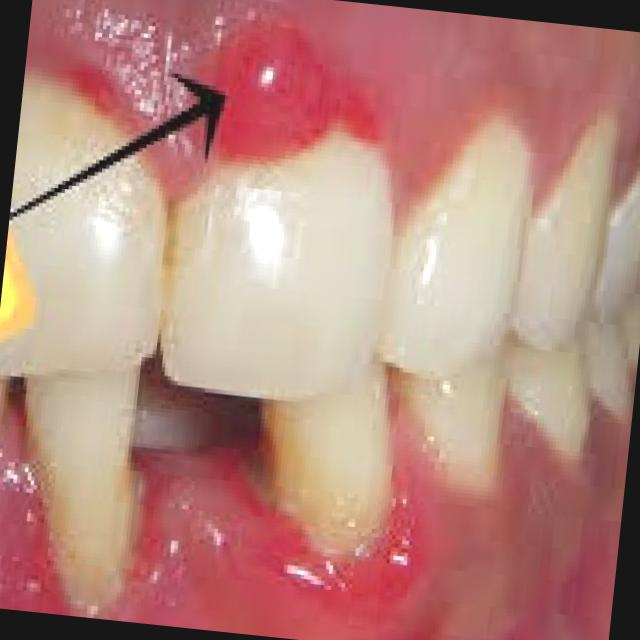abscess: (168, 16, 402, 193)
